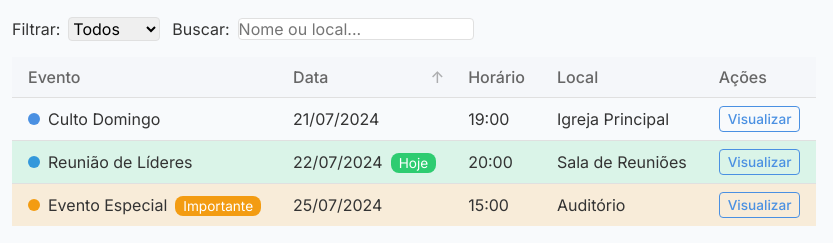
it: UpcomingEventsTable › filtra eventos por tipo
Expected: the text "Culto Domingo" is shown, [12, 97, 277, 140]
Expected: the text "Reunião de Líderes" is shown, [12, 140, 277, 183]
// Filtrar por cultos
Select "Cultos" in the dropdown named "Filtrar eventos por tipo" at (114, 28), box [68, 16, 160, 40]
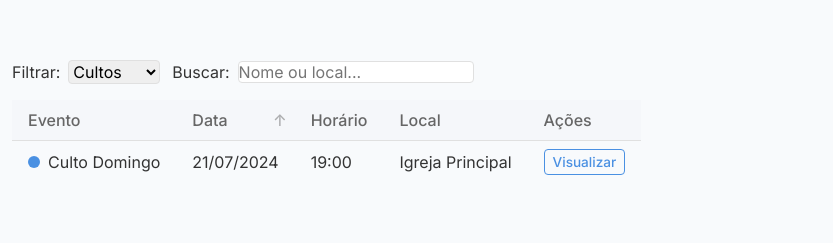
Expected: the text "Culto Domingo" is shown, [12, 140, 176, 182]
Now the text "Reunião de Líderes" is gone
Now the text "Evento Especial" is gone
// Filtrar por eventos
Select "Eventos" in the dropdown named "Filtrar eventos por tipo" at (114, 72), box [68, 60, 160, 84]
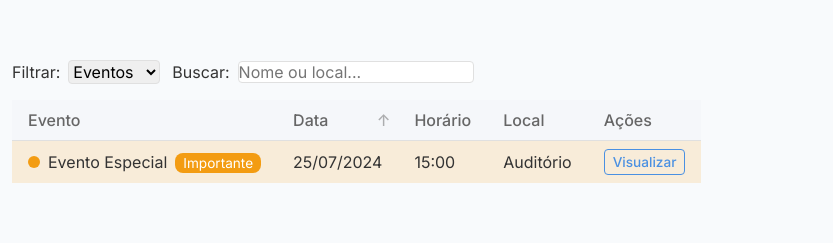
Expected: the text "Reunião de Líderes" is not shown
Now the text "Culto Domingo" is gone
Now the text "Evento Especial" is shown, box [48, 152, 167, 172]
